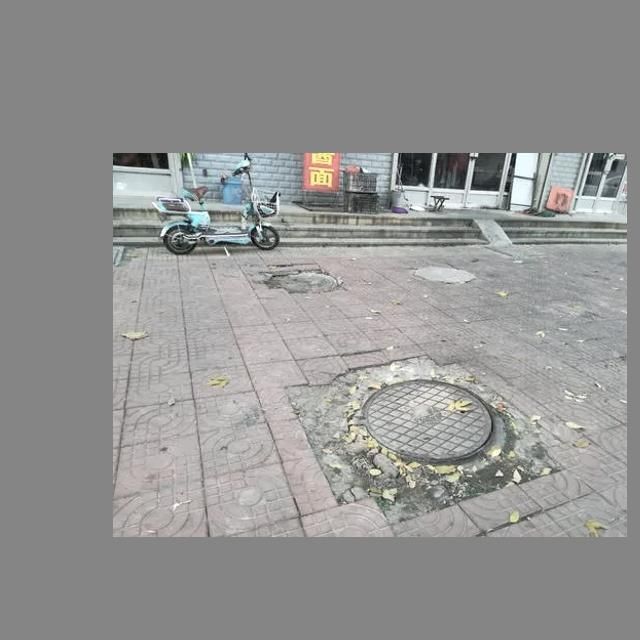circle: (298, 354, 544, 518)
